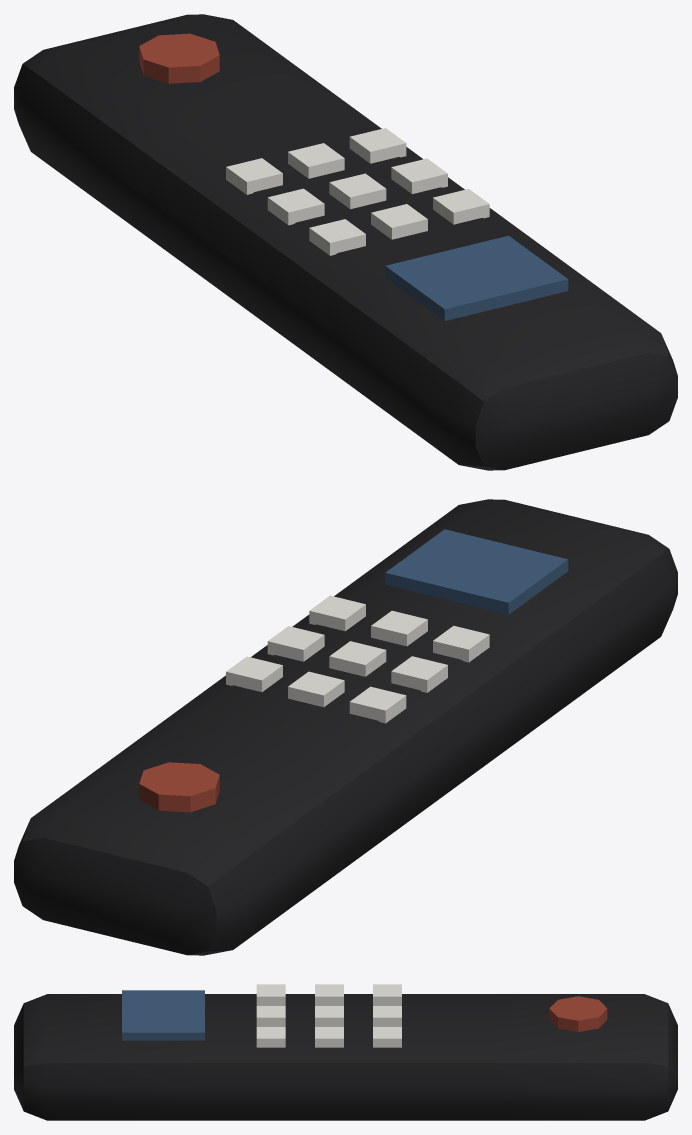
The model's file is remote.glb.
3 views of the same model, one above another, from view 1: azimuth 30°, elevation 25°; view 2: azimuth 150°, elevation 25°; view 3: azimuth 270°, elevation 25° (orthographic). The views are drawn at different scales.
Visible parts, largest first — view 1: remote; view 2: remote; view 3: remote.
Part boxes in pixels (box(x1,y1,x2,y2)): remote: box(14, 14, 677, 470); remote: box(14, 499, 677, 955); remote: box(14, 984, 677, 1120).
Bounding box in the file's own units: 0.22 × 0.115 × 0.8.
